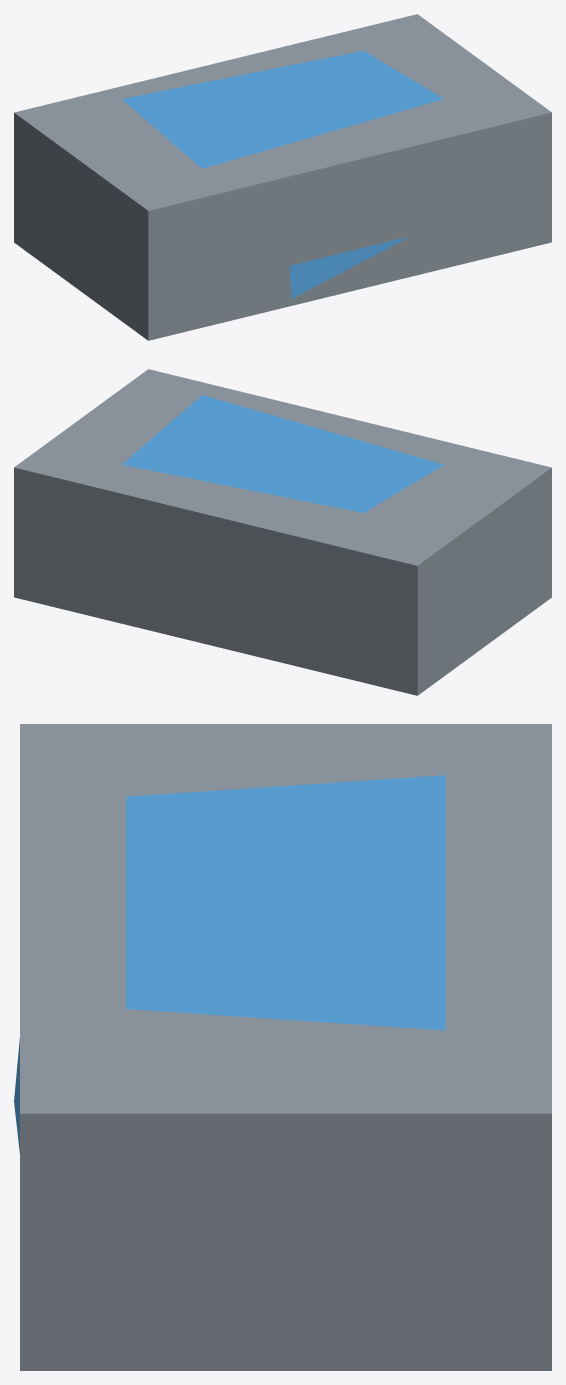
Rendered from AL_RefractionTank_LOD1.glb.
The picture shows the model from 3 angles, top to bottom: view 1: azimuth 30°, elevation 25°; view 2: azimuth 150°, elevation 25°; view 3: azimuth 270°, elevation 25°; orthographic projection. The views are drawn at different scales.
Visible parts, largest first — view 1: EntranceGate; view 2: EntranceGate; view 3: EntranceGate.
Boxes of the visible parts, bbox=[...] form: EntranceGate: bbox=[14, 14, 551, 340]; EntranceGate: bbox=[14, 369, 551, 695]; EntranceGate: bbox=[14, 724, 551, 1370].
Bounding box in the file's own units: 520 × 177 × 303.
